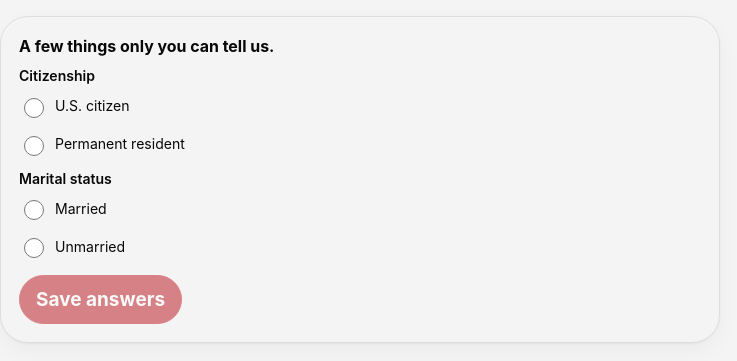
Test: 32.3 R4 — ProfileCard (T13) › submits nothing until every required field has a tap; then resolves with the answers
Later steps or results of the test are not shown.
Expected: the button "Save answers" is disabled, [19,275,182,324]
Step 1. Click the radio button labelled "Married" → (34, 210), box [24,200,44,220]
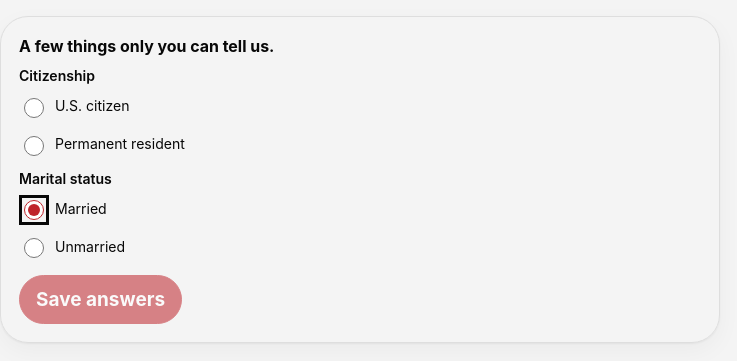
Expected: the button "Save answers" is disabled, [19,275,182,324]
Step 2. Click the radio button labelled "U.S. citizen" → (34, 108), box [24,98,44,118]
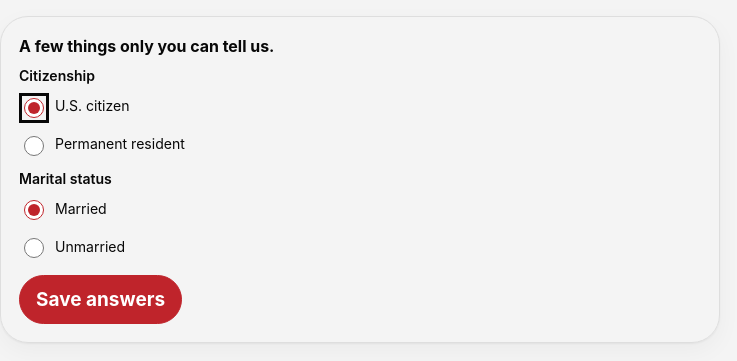
Now the button "Save answers" is enabled, box [19,275,182,324]
